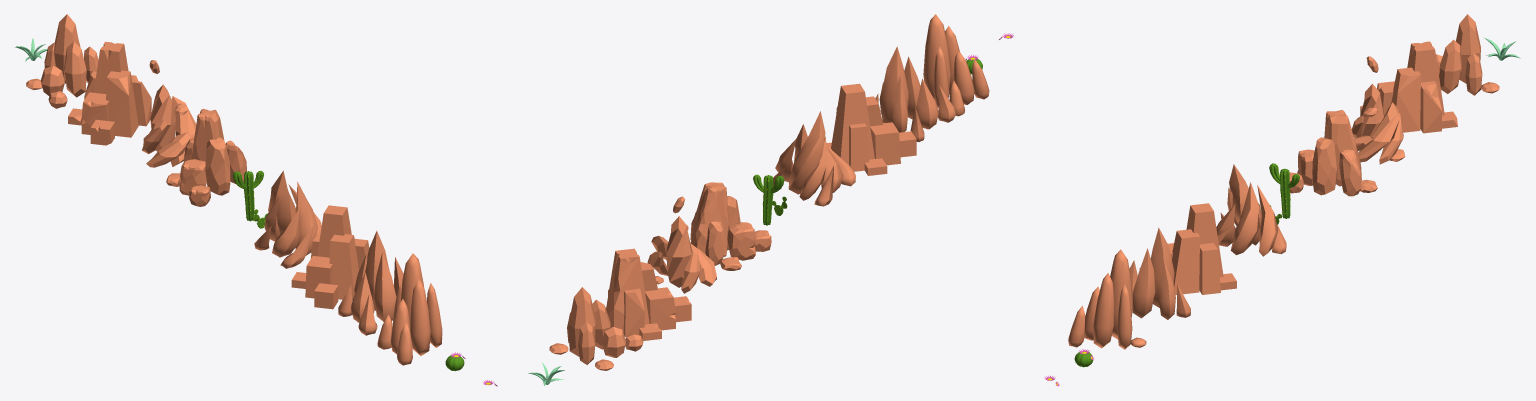
File: desertpack.fbx
3 views of the same model, side by side, from view 1: azimuth 30°, elevation 25°; view 2: azimuth 150°, elevation 25°; view 3: azimuth 330°, elevation 25° (orthographic). The views are drawn at different scales.
Visible parts, largest first — view 1: rock_02, rock_03, rock_07, rock_04, rock_08, rock_01, rock_05, rock_06, rock_02.001, rock_06.001, rock_05.001, rock_01.001 (+4 smaller); view 2: rock_02, rock_03.001, rock_07, rock_04, rock_08, rock_01, rock_05.001, rock_06, rock_05, rock_03, rock_08.001, rock_02.001 (+5 smaller); view 3: rock_02, rock_07, rock_04, rock_03, rock_08, rock_05, rock_06, rock_01, rock_02.001, Cactuss_02, rock_05.001, rock_01.001.
Part boxes in pixels (x1,y1,x2,y2): rock_02: (68,41,151,145); rock_03: (291,205,369,309); rock_07: (166,109,246,206); rock_04: (377,253,442,365); rock_08: (254,170,321,268); rock_01: (26,14,98,108); rock_05: (338,230,403,335); rock_06: (142,60,196,167); rock_02.001: (70,42,150,141); rock_06.001: (146,71,195,161); rock_05.001: (339,247,398,323); rock_01.001: (26,14,98,105); rock_02: (605,248,691,340); rock_03.001: (826,83,916,175); rock_07: (690,182,771,270); rock_04: (923,14,989,116); rock_08: (773,112,855,206); rock_01: (549,287,643,370); rock_05.001: (875,46,954,141); rock_06: (647,196,716,293); rock_05: (875,47,955,141); rock_03: (826,84,916,171); rock_08.001: (773,111,848,205); rock_02.001: (614,249,691,336); rock_02: (1360,41,1457,133); rock_07: (1289,110,1377,196); rock_04: (1068,249,1146,349); rock_03: (1139,203,1236,294); rock_08: (1216,164,1286,256); rock_05: (1129,228,1190,319); rock_06: (1351,56,1405,164); rock_01: (1436,14,1499,95); rock_02.001: (1380,42,1443,132); Cactuss_02: (1269,163,1299,218); rock_05.001: (1133,228,1190,319); rock_01.001: (1436,14,1481,92).
Bounding box in the file's own units: 392 × 434 × 3729.
24 materials, 24 textured.
